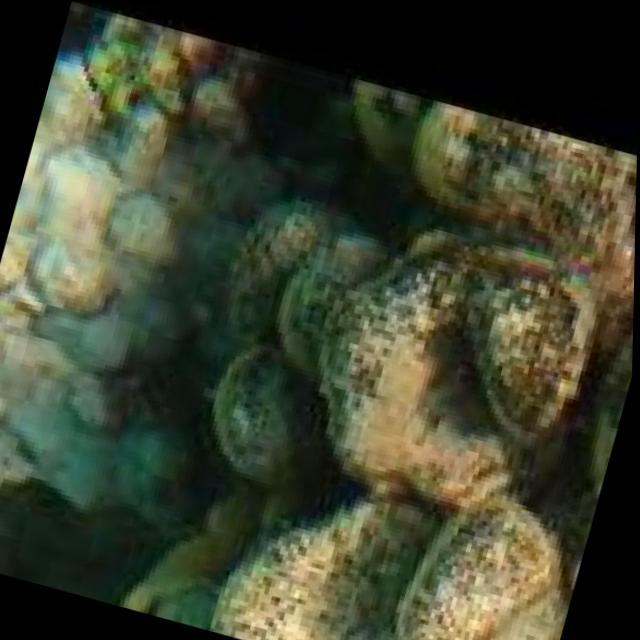Bleached Coral: (0, 12, 258, 605)
